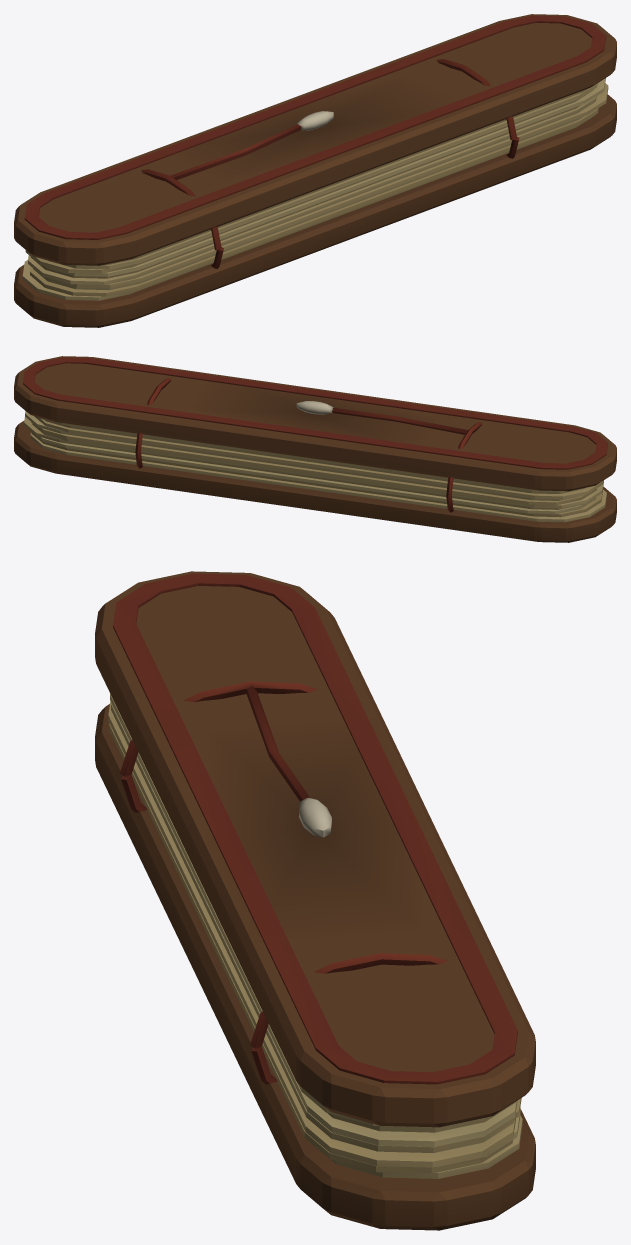
Rendered from palm-leaf.glb.
3 views of the same model, one above another, from view 1: azimuth 30°, elevation 25°; view 2: azimuth 150°, elevation 25°; view 3: azimuth 270°, elevation 25° (orthographic). The views are drawn at different scales.
Parts seen in each view (by area): view 1: base; view 2: base; view 3: base.
Part boxes in pixels (x1,y1,x2,y2): base: [14, 14, 616, 327]; base: [14, 356, 616, 542]; base: [95, 571, 535, 1230].
Size of the model in its own units: 0.2644 by 0.0415 by 0.0941.
